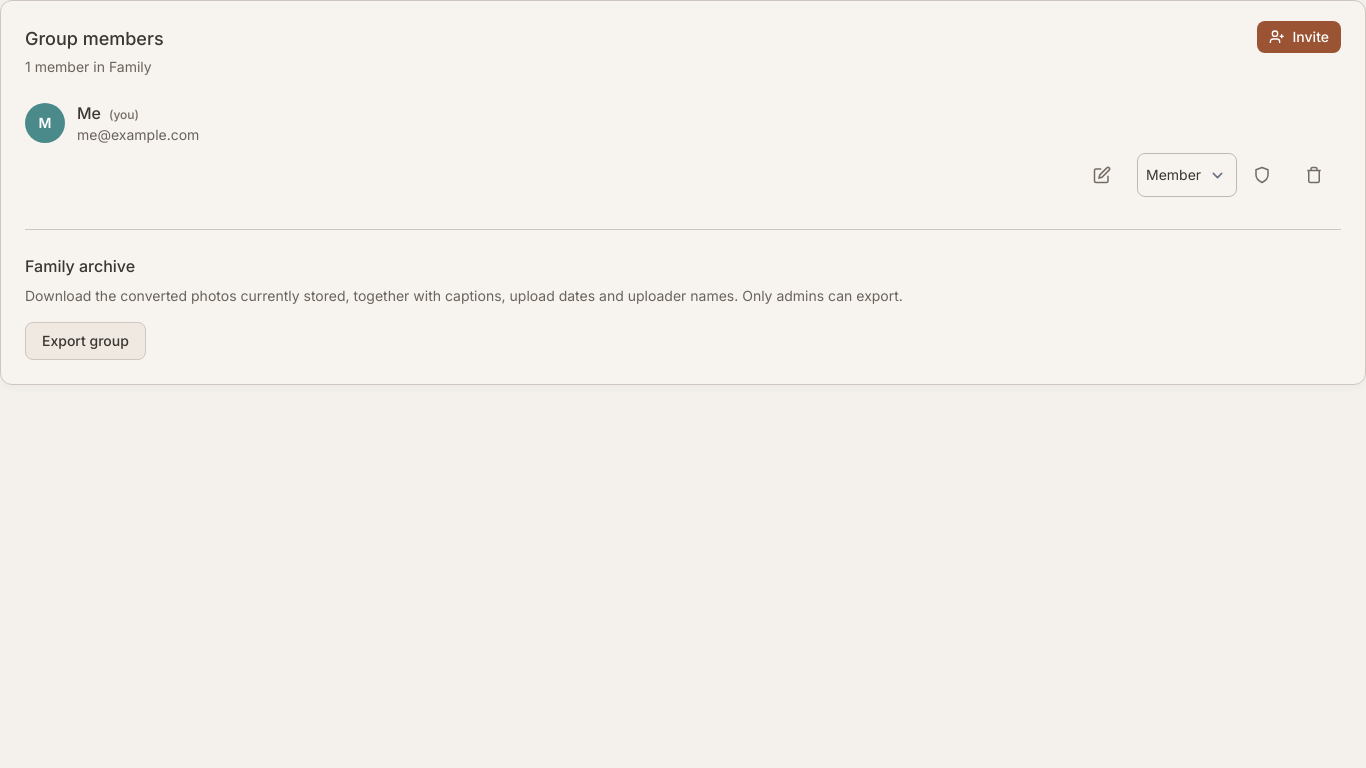
Test: MembersList image protection toggle › keeps a server-confirmed toggle and announces it
Click the button named "Enable image protection for Me" at (1267, 175), box [1245,153,1289,197]
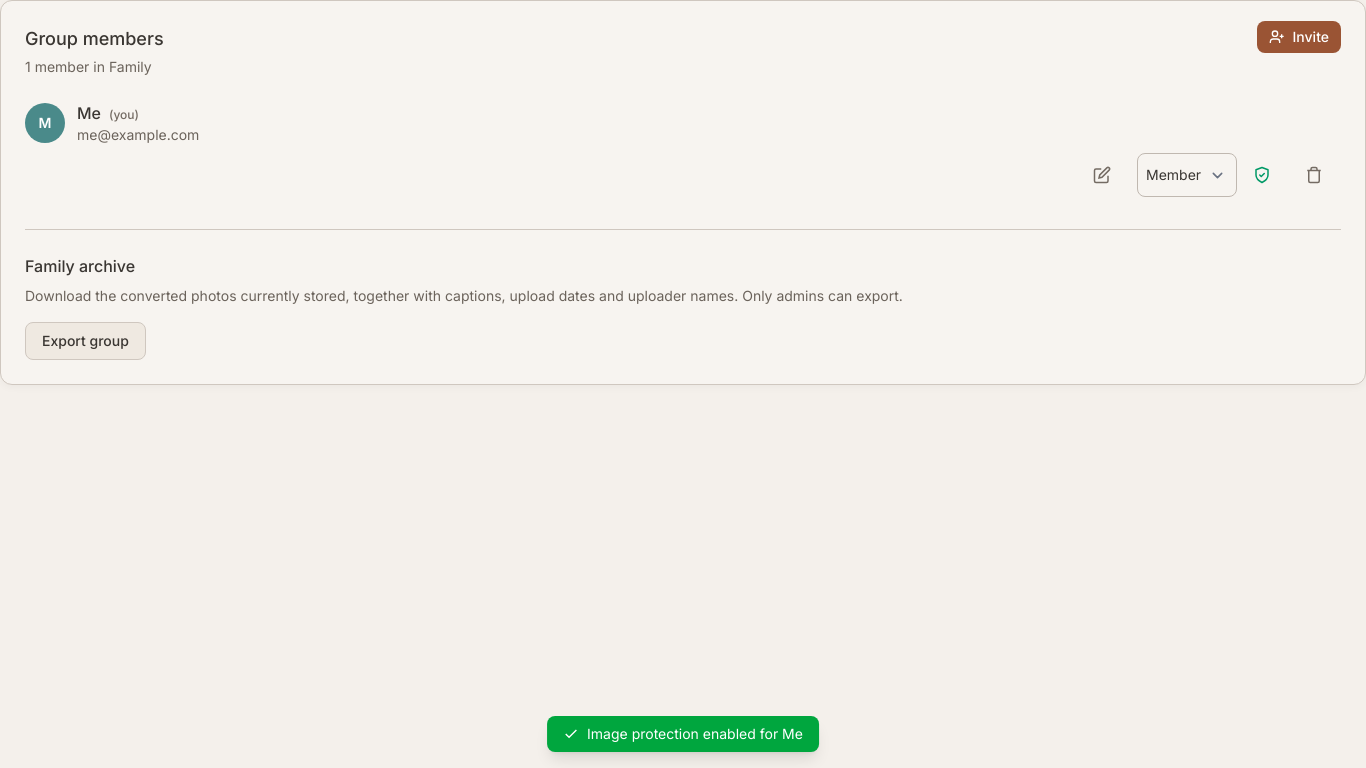
Expected: the message reads "Image protection enabled for Me", [587,725,803,742]
